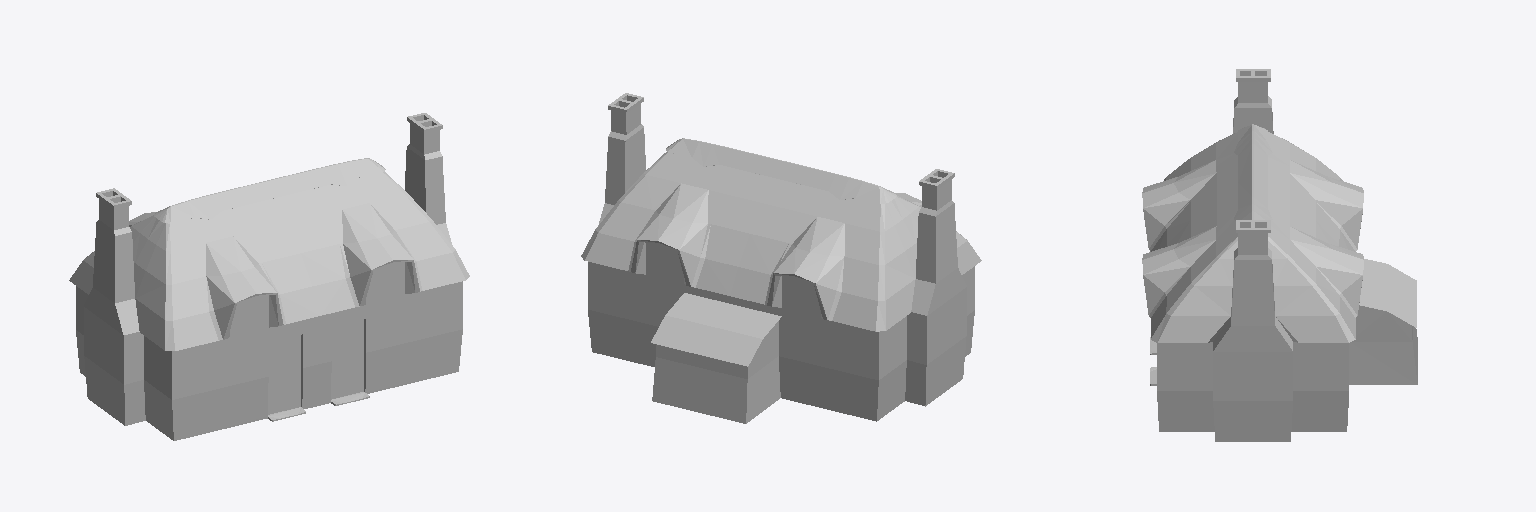
File: _cottage.obj
3 renders of one model, left to right at view 1: azimuth 30°, elevation 25°; view 2: azimuth 150°, elevation 25°; view 3: azimuth 270°, elevation 25°, orthographic.
Size of the model in its own units: 321 by 197 by 231.